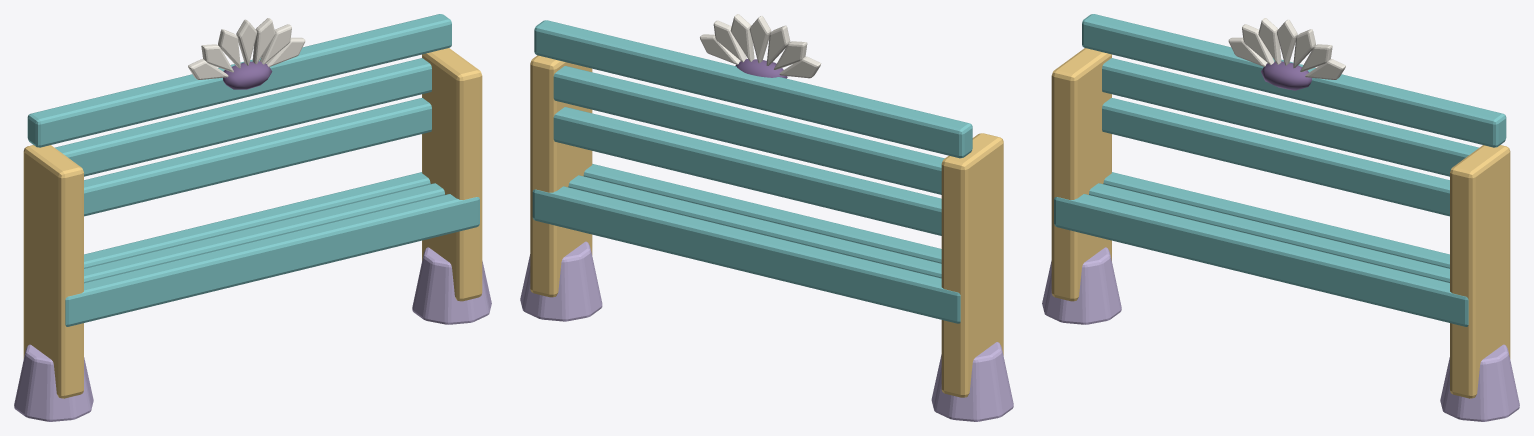
The model's file is lagoon_park_bench.glb.
3 views of the same model, side by side, from view 1: azimuth 30°, elevation 25°; view 2: azimuth 150°, elevation 25°; view 3: azimuth 330°, elevation 25° (orthographic). The views are drawn at different scales.
Visible parts, largest first — view 1: lagoon_park_bench.001; view 2: lagoon_park_bench.001; view 3: lagoon_park_bench.001.
Boxes of the visible parts, left/top/right/bottom form: lagoon_park_bench.001: left=14, top=14, right=491, bottom=421; lagoon_park_bench.001: left=520, top=14, right=1013, bottom=421; lagoon_park_bench.001: left=1042, top=14, right=1519, bottom=421.
Bounding box in the file's own units: 5.15 × 3.51 × 0.78.
